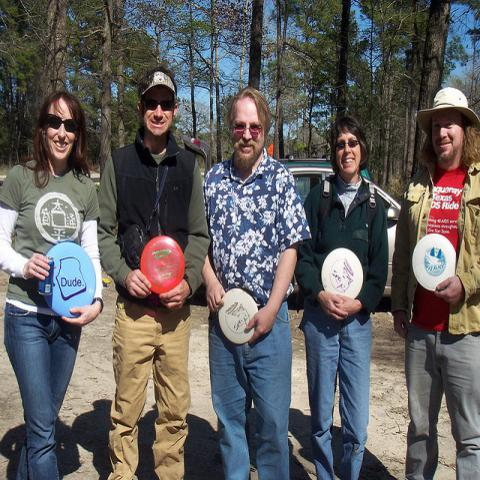car: (277, 154, 401, 300)
